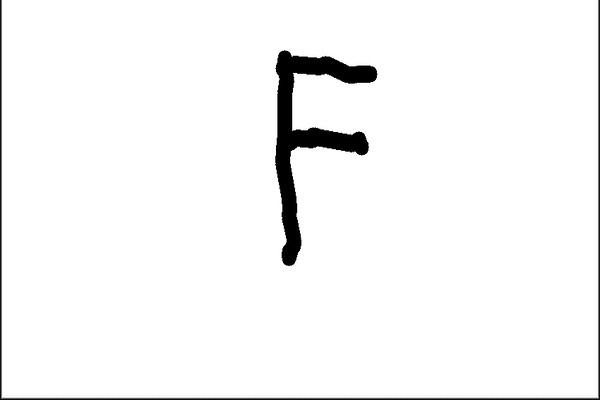F: (271, 46, 378, 270)
